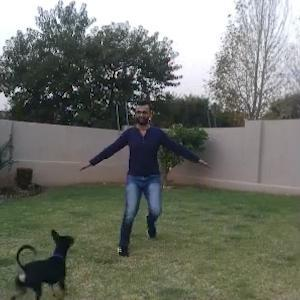land: (78, 76, 223, 271)
